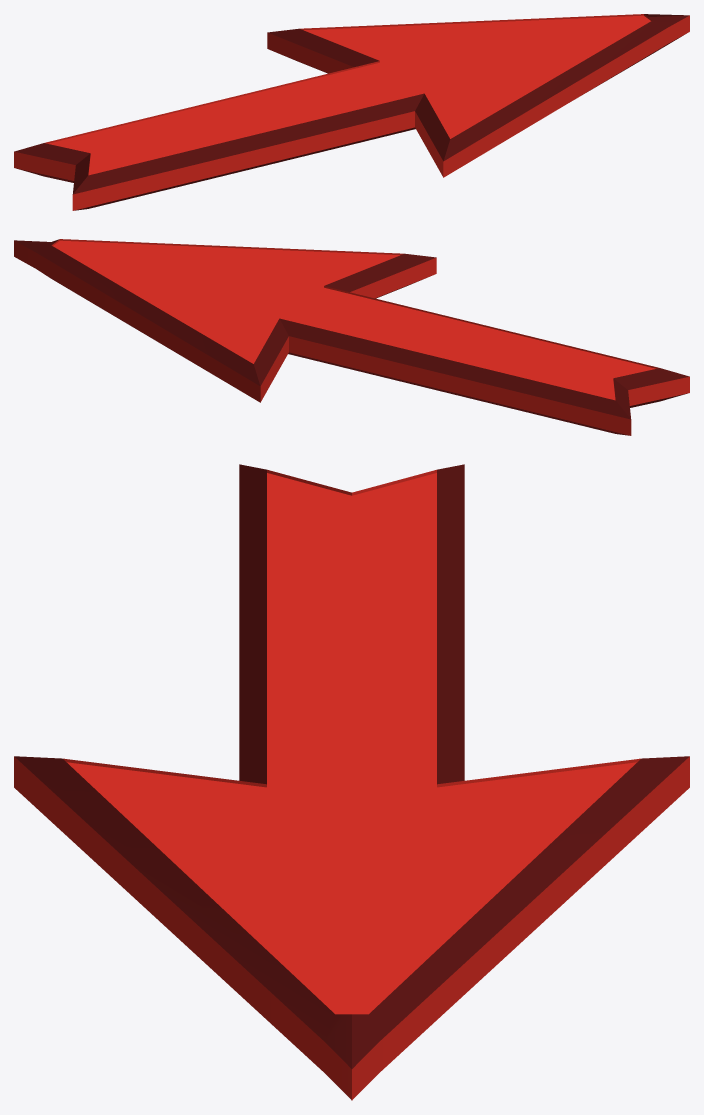
File: Arow.fbx
3 renders of one model, top to bottom at view 1: azimuth 30°, elevation 25°; view 2: azimuth 150°, elevation 25°; view 3: azimuth 270°, elevation 25°, orthographic. The views are drawn at different scales.
Parts seen in each view (by area): view 1: Plane; view 2: Plane; view 3: Plane.
Boxes of the visible parts, x1,y1,x2,y2 form: Plane: [14, 14, 689, 210]; Plane: [14, 239, 689, 435]; Plane: [14, 464, 689, 1100].
Bounding box in the file's own units: 112 × 5.56 × 53.07.
